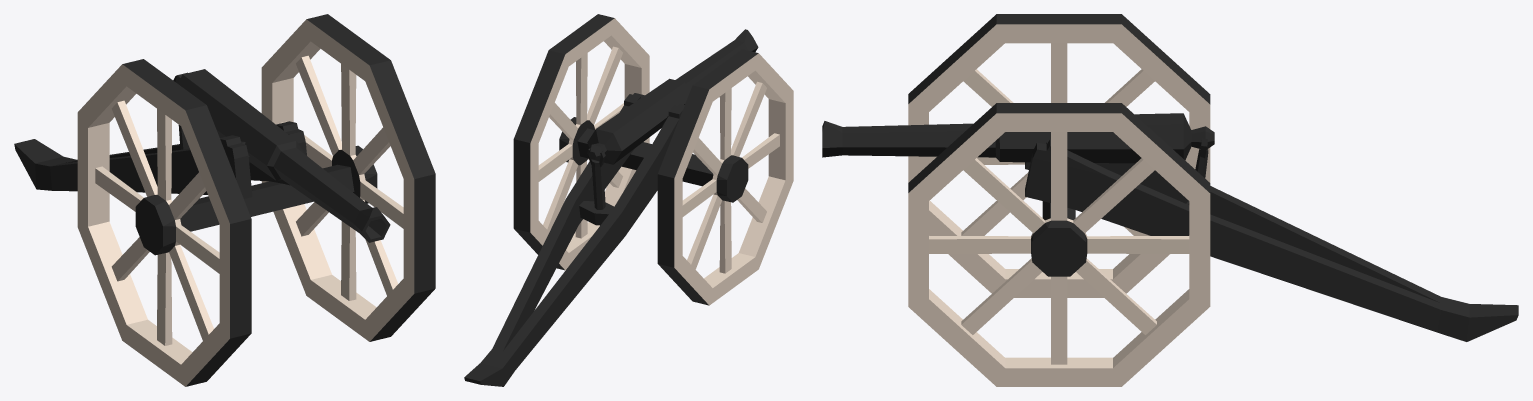
File: zulu_cannon-pounder.fbx
The picture shows the model from 3 angles, left to right: view 1: azimuth 30°, elevation 25°; view 2: azimuth 150°, elevation 25°; view 3: azimuth 270°, elevation 25°; orthographic projection. The views are drawn at different scales.
Visible parts, largest first — view 1: zulu_cannon_pounder; view 2: zulu_cannon_pounder; view 3: zulu_cannon_pounder.
Boxes of the visible parts, bbox=[...] form: zulu_cannon_pounder: bbox=[14, 14, 435, 386]; zulu_cannon_pounder: bbox=[464, 14, 793, 386]; zulu_cannon_pounder: bbox=[822, 14, 1518, 386].
Bounding box in the file's own units: 70.4 × 86.72 × 200.
